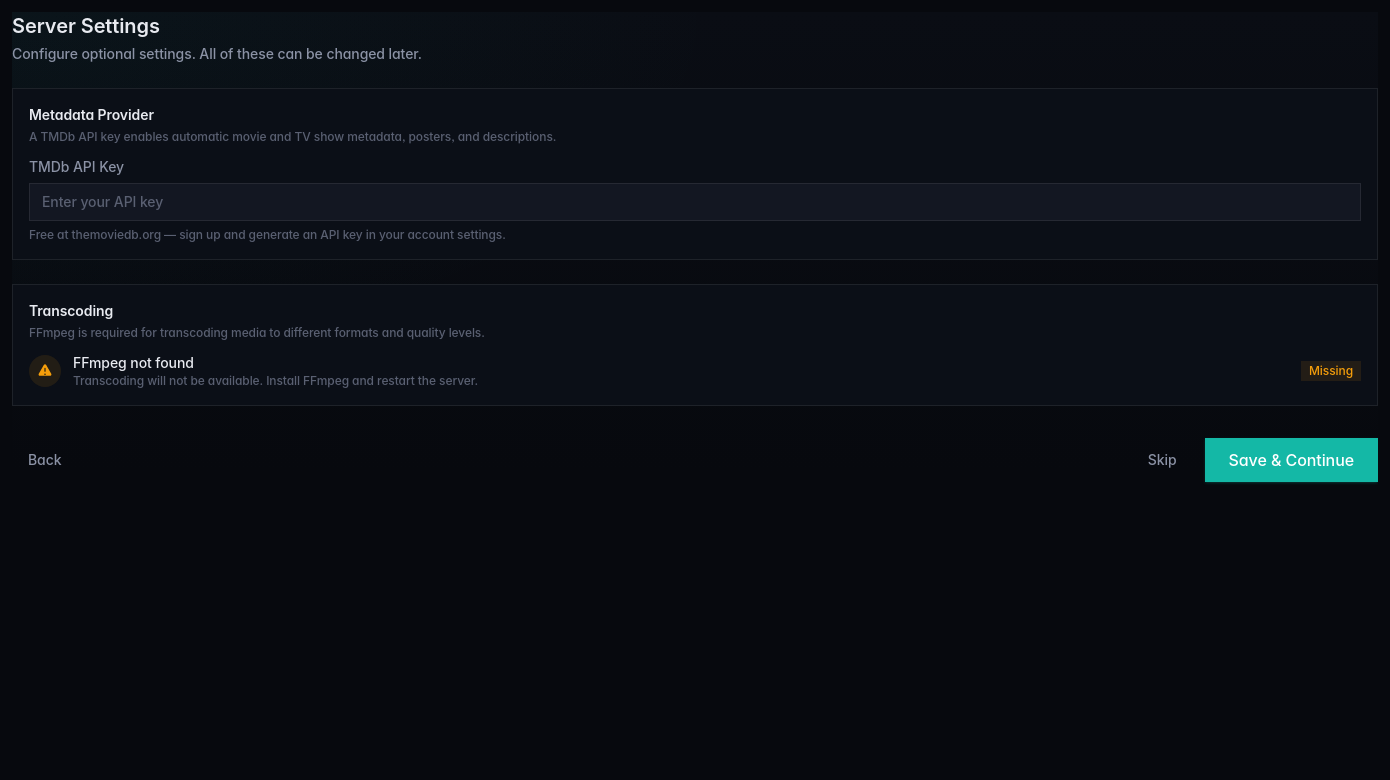
Test case: SettingsStep › on mutation error: surfaces the message
Type "k" into the field labelled "TMDb API Key" at (695,202), box [29,183,1361,221]
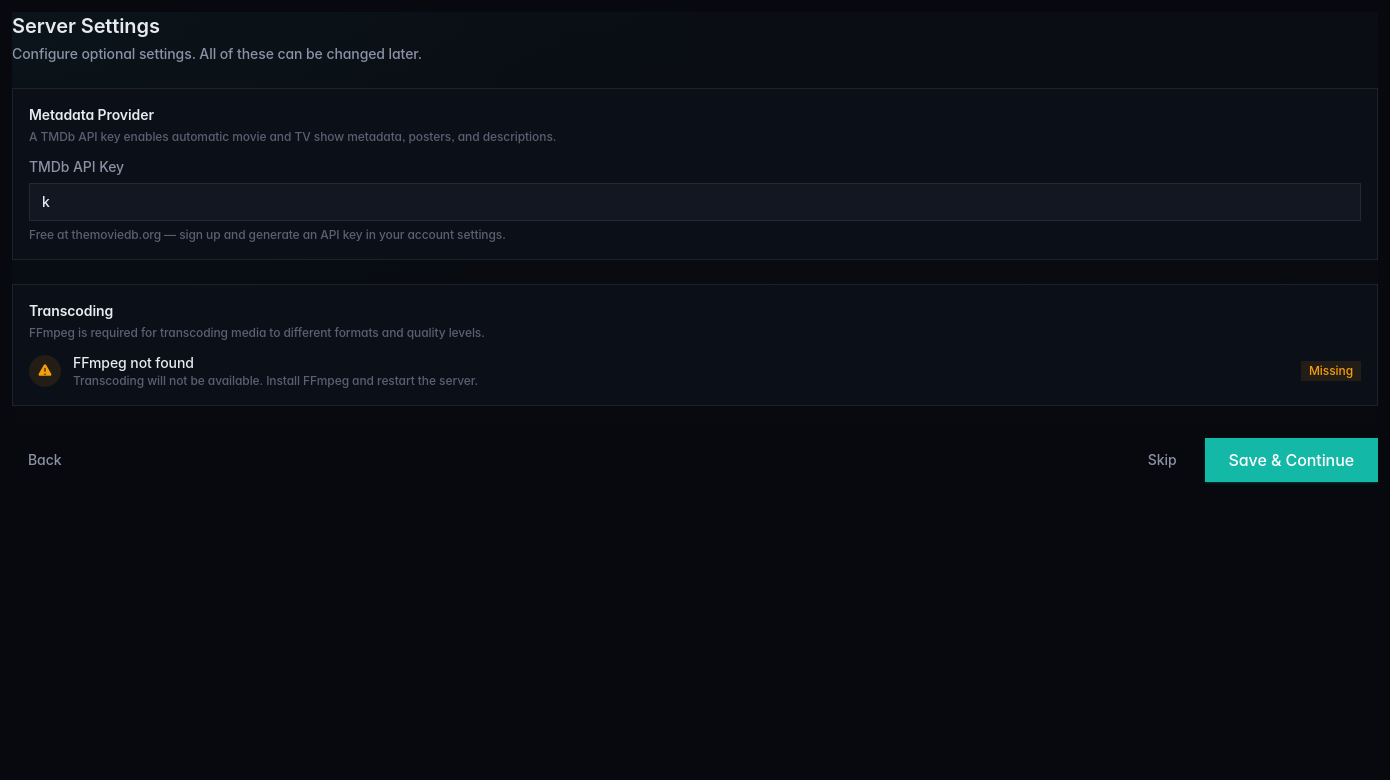
Click the button "Save & Continue" at (1291,460), box [1204,438,1378,482]
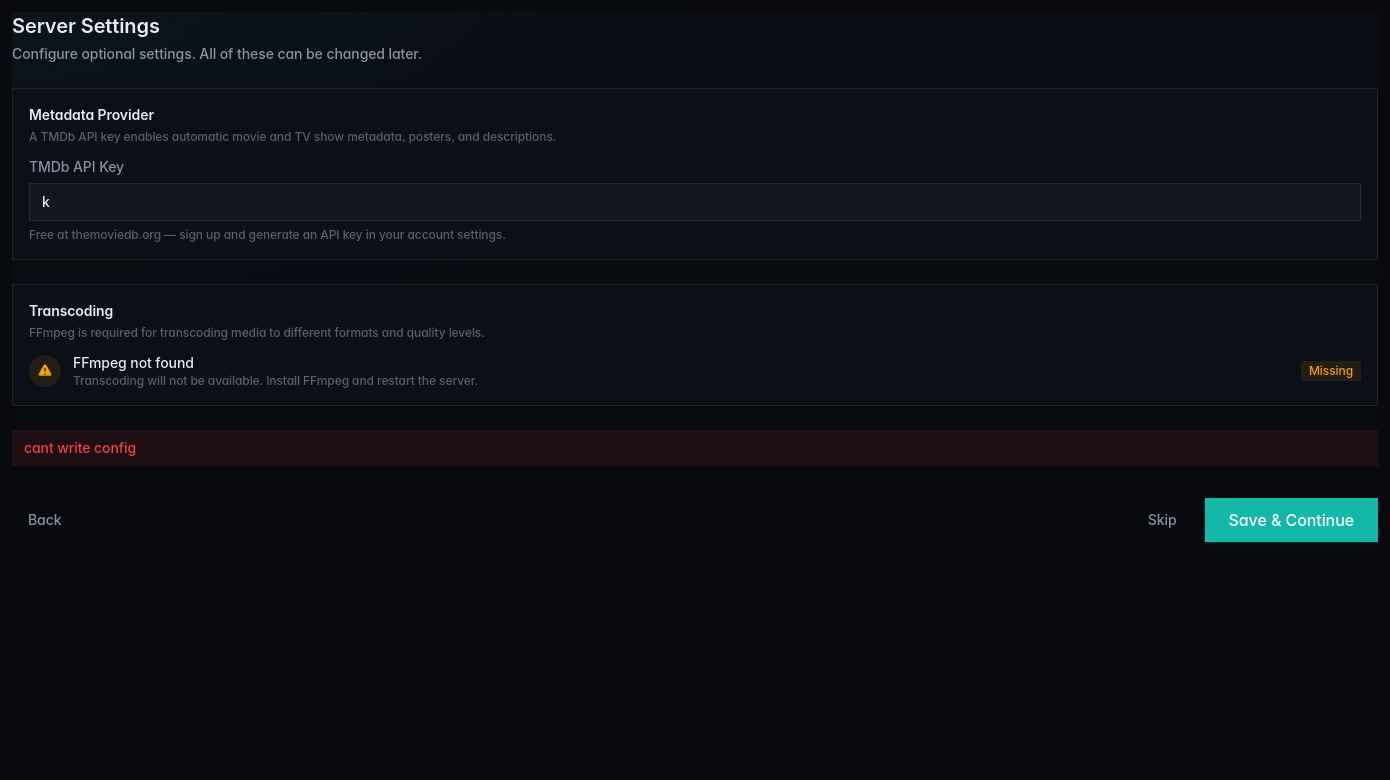
Now the text "cant write config" is shown, box [12,430,1378,466]
